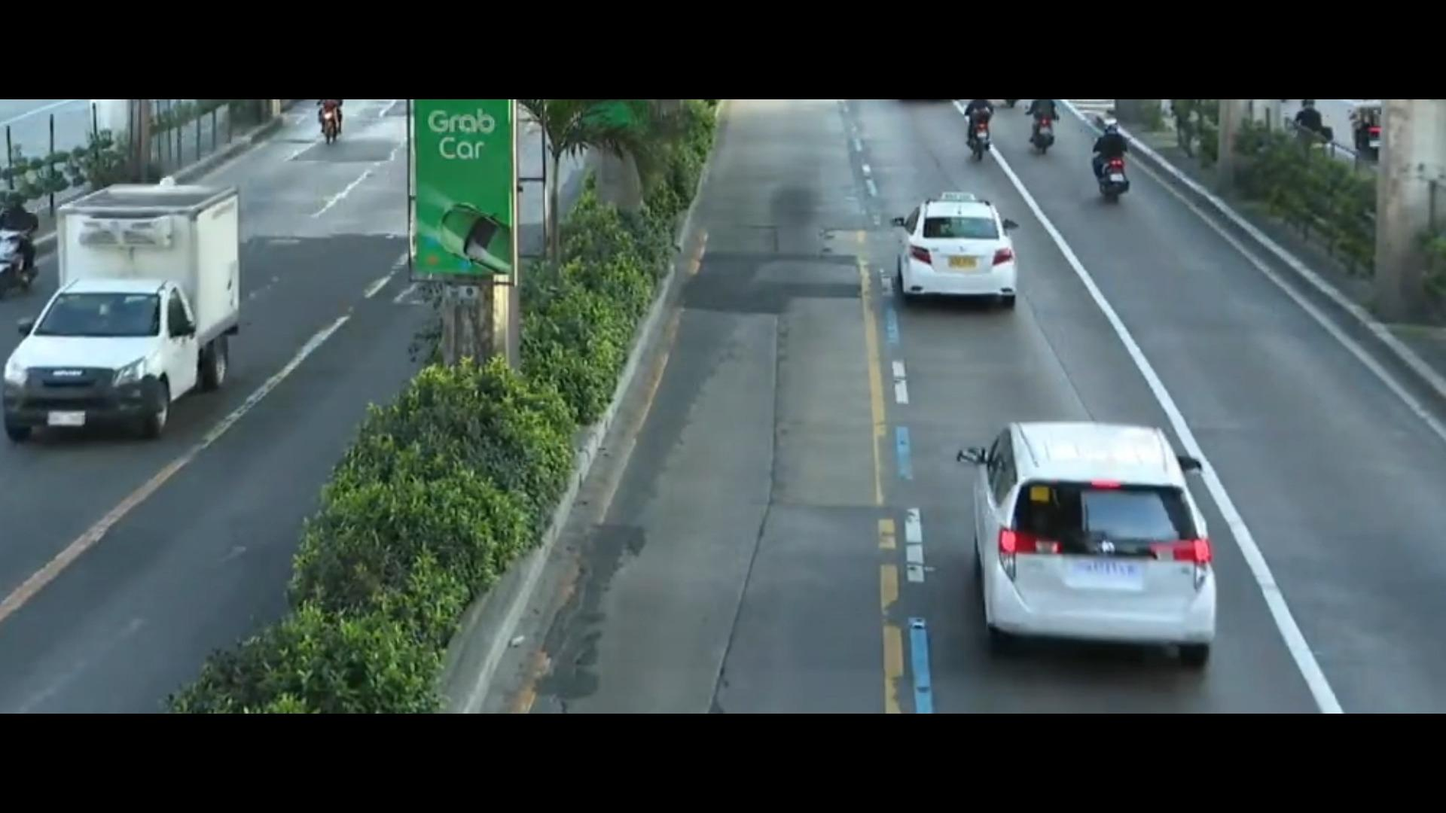Motorcycle: (1064, 111, 1147, 218), (936, 100, 995, 167), (0, 196, 46, 273), (1013, 96, 1065, 158), (308, 87, 354, 143)
SUV: (968, 401, 1236, 679)
Sedan: (880, 195, 1027, 309)
Truck: (10, 172, 256, 443)
